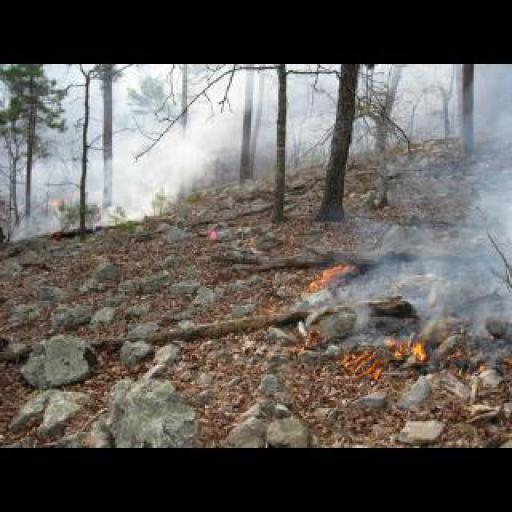smoke: (400, 123, 510, 341), (342, 330, 432, 380), (302, 260, 364, 294)
